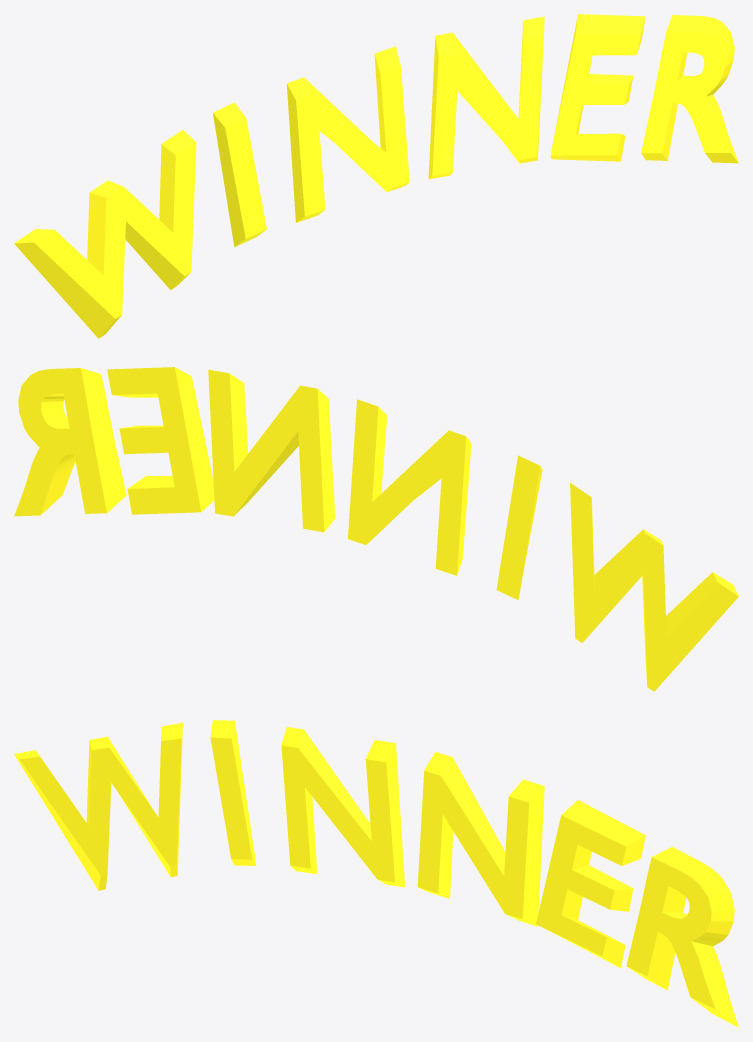
The model's file is sign.glb.
3 views of the same model, one above another, from view 1: azimuth 30°, elevation 25°; view 2: azimuth 150°, elevation 25°; view 3: azimuth 330°, elevation 25° (orthographic).
Visible parts, largest first — view 1: Text; view 2: Text; view 3: Text.
Part boxes in pixels (bbox=[...]): Text: bbox=[14, 14, 738, 338]; Text: bbox=[14, 367, 738, 691]; Text: bbox=[14, 720, 738, 1027].
Size of the model in its own units: 4.63 by 1.35 by 0.0811.
